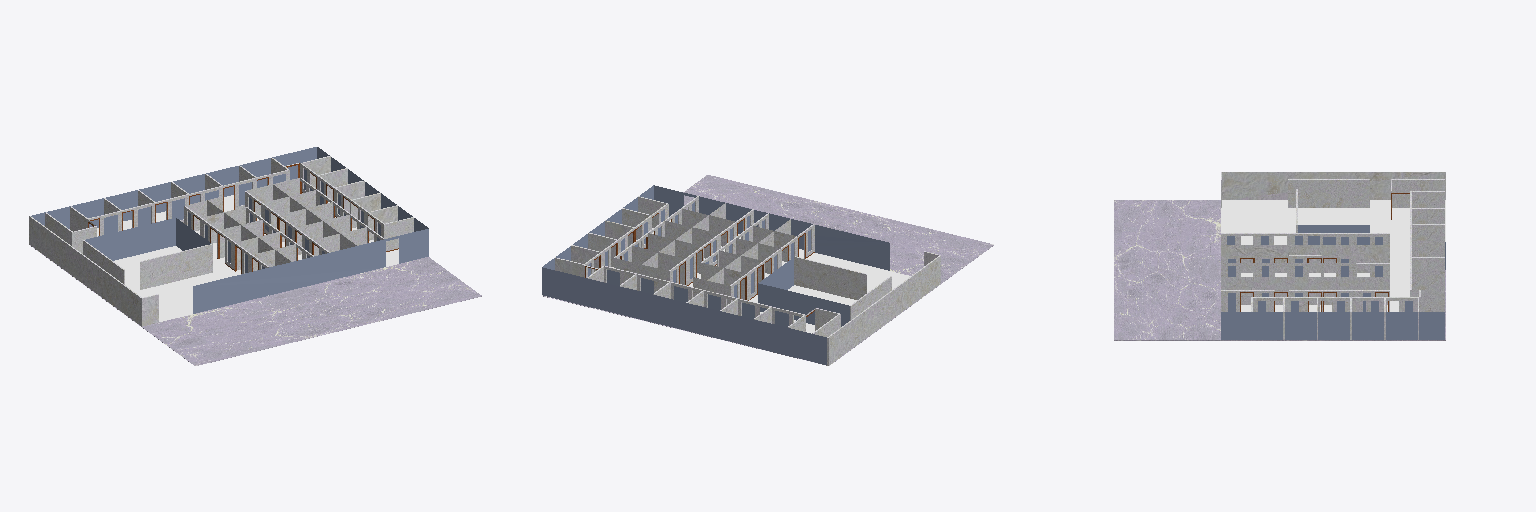
The picture shows the model from 3 angles: view 1: azimuth 30°, elevation 25°; view 2: azimuth 150°, elevation 25°; view 3: azimuth 270°, elevation 25°; orthographic projection.
Visible parts, largest first — view 1: cubicles1, glass, floor, cubicles2, carpet, wood; view 2: glass, cubicles1, floor, cubicles2, carpet, wood; view 3: cubicles1, floor, glass, carpet, cubicles2.
Part boxes in pixels (x1,y1,x2,y2): cubicles1: (29,156,413,326); glass: (31,147,428,313); floor: (30,245,481,365); cubicles2: (88,178,413,295); carpet: (97,195,398,321); wood: (88,163,398,273); glass: (542,185,889,364); cubicles1: (555,196,940,365); floor: (543,175,993,365); cubicles2: (614,197,837,333); carpet: (542,220,910,333); wood: (585,213,814,316); cubicles1: (1221,172,1445,339); floor: (1114,200,1445,340); glass: (1221,225,1445,339); carpet: (1221,200,1445,311); cubicles2: (1221,180,1409,276).
Bounding box in the file's own units: 19986 × 1930 × 19996.
Materials: 6 (3 with a texture image).